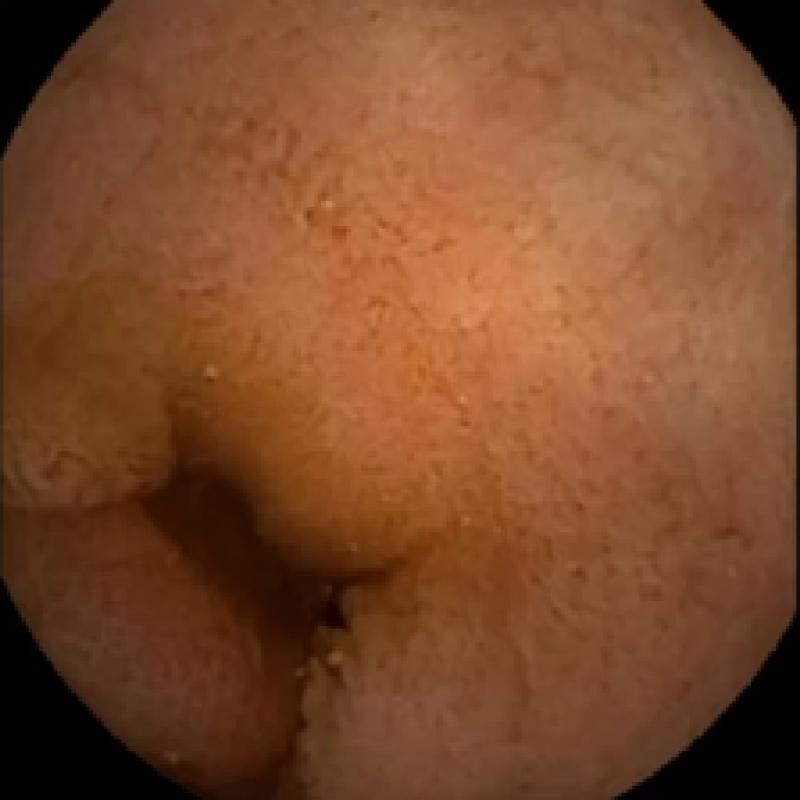bleeding: (125, 450, 393, 757)
